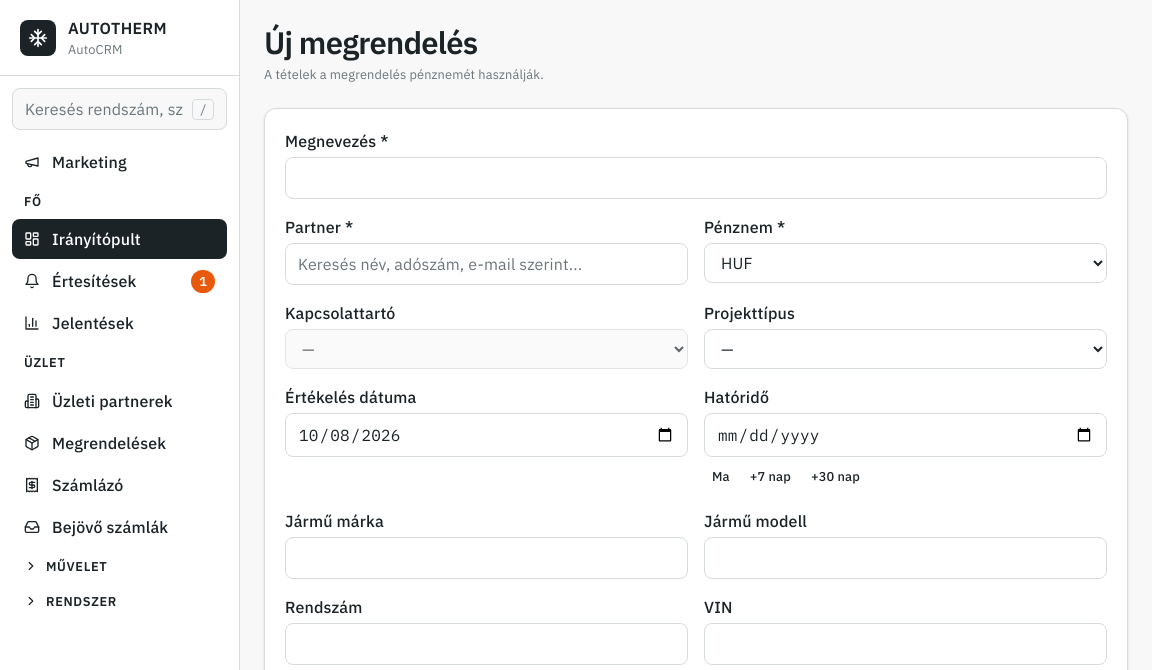
Test case: the build specification section › shows the cooling fields for a cooling project type
The image size is (1152, 670).
Select "Hűtőgép beépítés" in the dropdown labelled "Projekttípus": (906, 349) [704, 329, 1107, 369]
(page scrolled)
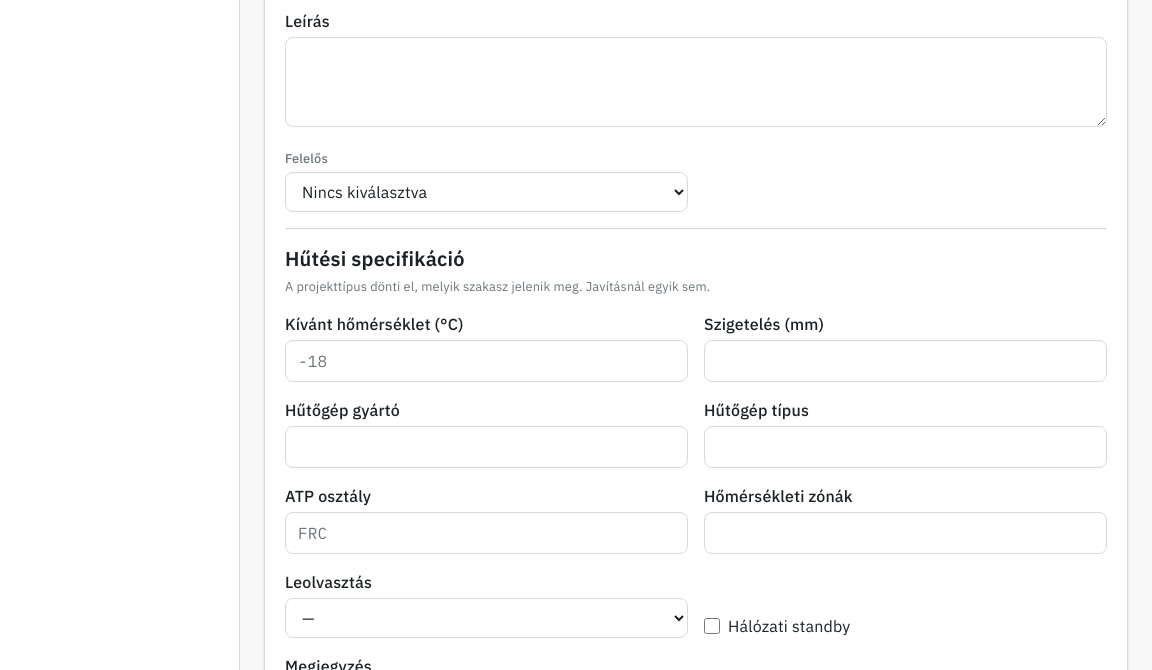
Expected: the field labelled "Hűtőgép gyártó" is shown, [285, 426, 688, 468]
Expected: the field labelled "ATP osztály" is shown, [285, 512, 688, 554]
Expected: the field labelled "Kívánt hőmérséklet (°C)" is shown, [285, 340, 688, 382]
